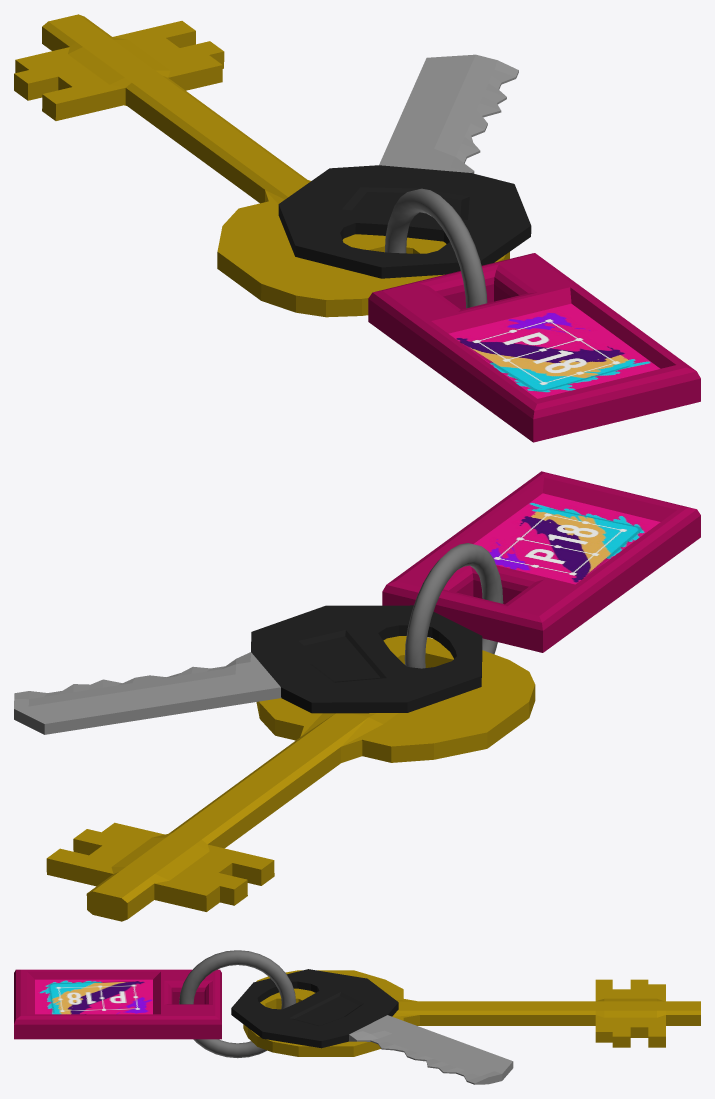
File: Llaves(3).fbx
3 renders of one model, top to bottom at view 1: azimuth 30°, elevation 25°; view 2: azimuth 150°, elevation 25°; view 3: azimuth 270°, elevation 25°, orthographic. The views are drawn at different scales.
Parts seen in each view (by area): view 1: Llavero; view 2: Llavero; view 3: Llavero.
Part boxes in pixels (x1=…): Llavero: x1=14, y1=14, x2=700, y2=442; Llavero: x1=14, y1=471, x2=700, y2=921; Llavero: x1=14, y1=950, x2=700, y2=1084.
Bounding box in the file's own units: 158 × 63.98 × 375.
Materials: 1 (1 with a texture image).
